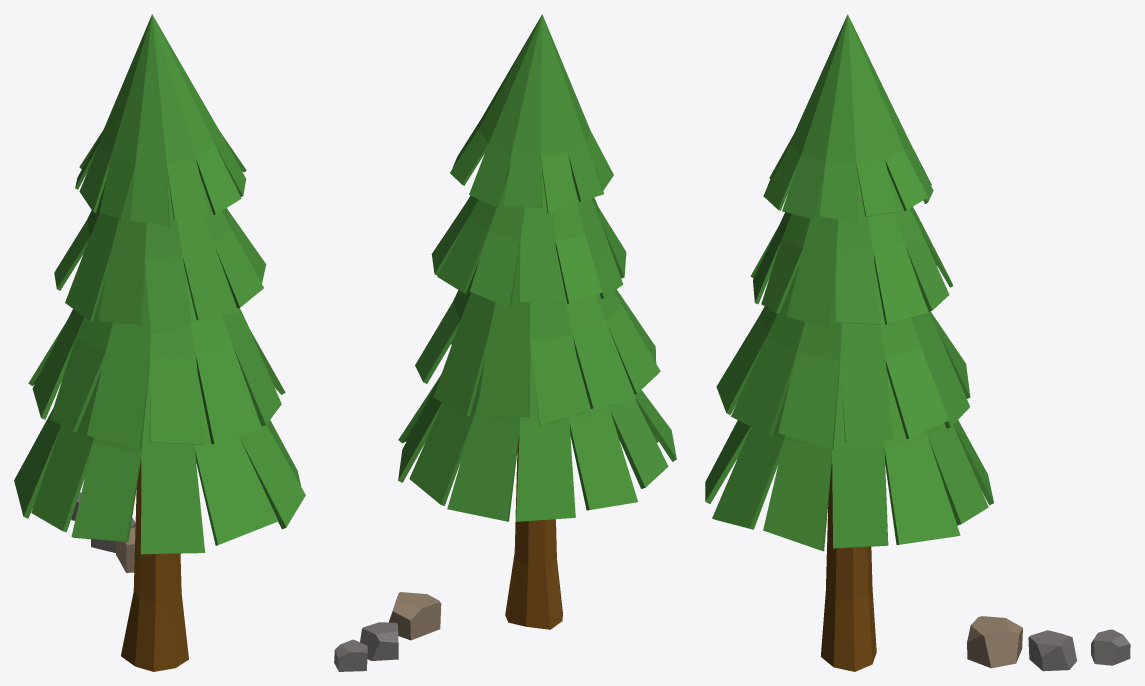
The model's file is petre_copac.fbx.
3 renders of one model, left to right at view 1: azimuth 30°, elevation 25°; view 2: azimuth 150°, elevation 25°; view 3: azimuth 270°, elevation 25°, orthographic. The views are drawn at different scales.
Visible parts, largest first — view 1: brad19, rock5; view 2: brad19, rock5, rock4, rock3; view 3: brad19, rock5, rock4, rock3.
Boxes of the visible parts, x1,y1,x2,y2 form: brad19: [14, 14, 305, 671]; rock5: [116, 526, 135, 572]; brad19: [398, 14, 676, 629]; rock5: [388, 592, 441, 640]; rock4: [360, 622, 398, 660]; rock3: [334, 639, 367, 671]; brad19: [705, 14, 993, 671]; rock5: [967, 616, 1022, 668]; rock4: [1028, 630, 1076, 671]; rock3: [1091, 629, 1130, 665].
Size of the model in its own units: 3.3 by 8.2 by 4.93.
